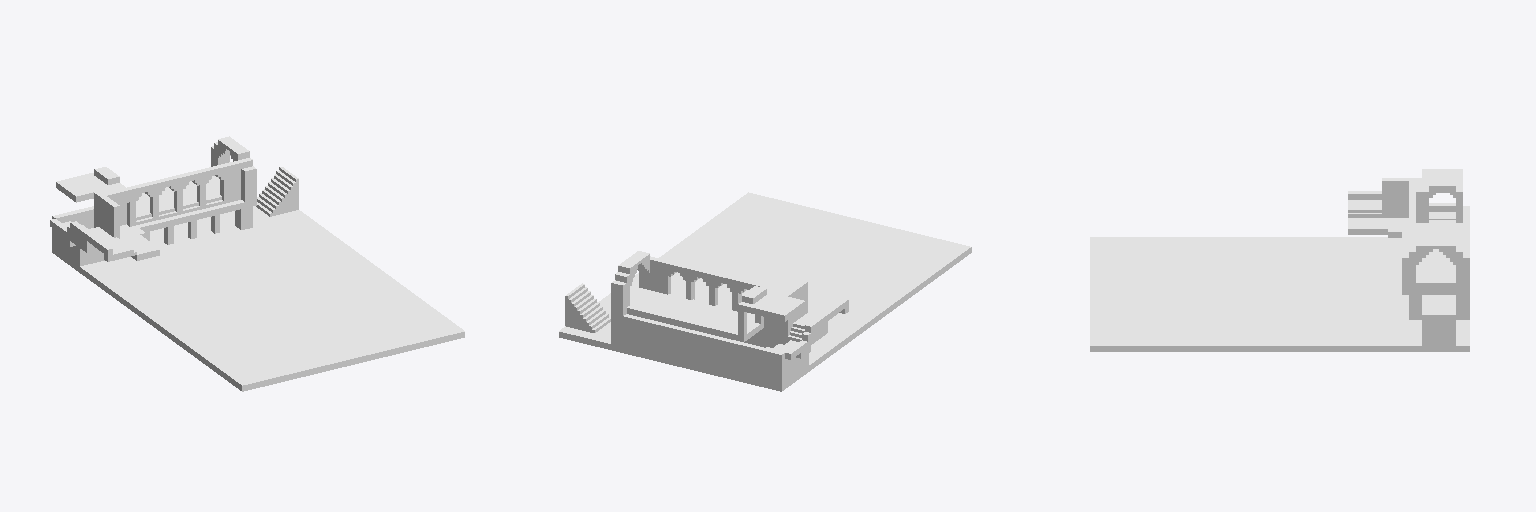
File: map1.obj
The picture shows the model from 3 angles: view 1: azimuth 30°, elevation 25°; view 2: azimuth 150°, elevation 25°; view 3: azimuth 270°, elevation 25°; orthographic projection.
Parts seen in each view (by area): view 1: New_World_(1)__184_4_-97_to_223_255_-41; view 2: New_World_(1)__184_4_-97_to_223_255_-41; view 3: New_World_(1)__184_4_-97_to_223_255_-41.
Part boxes in pixels (x1,y1,x2,y2): New_World_(1)__184_4_-97_to_223_255_-41: (50,136,464,391); New_World_(1)__184_4_-97_to_223_255_-41: (559,192,971,391); New_World_(1)__184_4_-97_to_223_255_-41: (1090,169,1469,351).
Size of the model in its own units: 39 by 13 by 56.